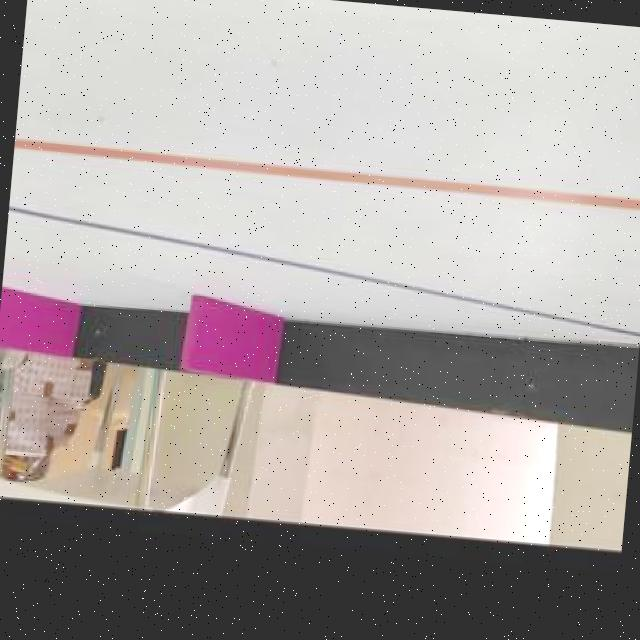xparking: (183, 295, 278, 382), (0, 294, 70, 355)
